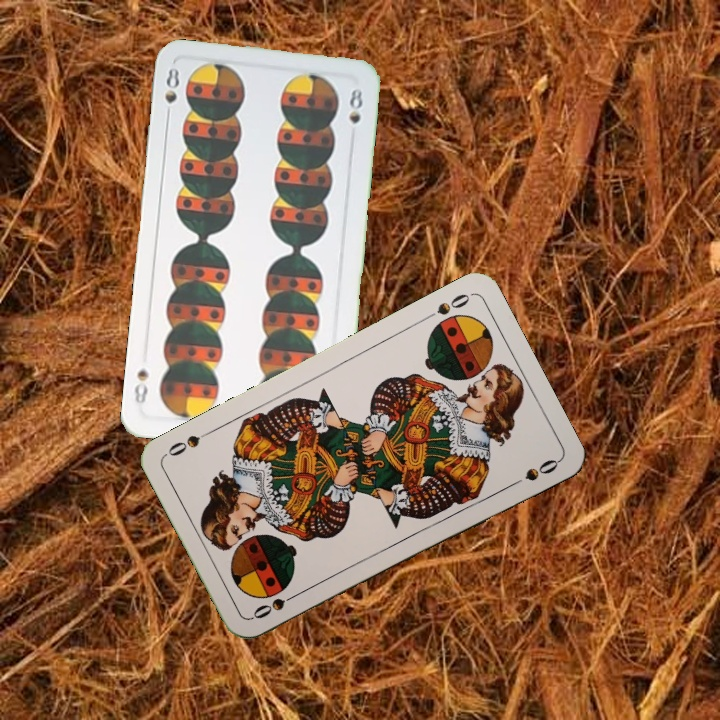S8: (161, 63, 182, 122)
SO: (419, 289, 473, 324), (248, 588, 303, 622)
